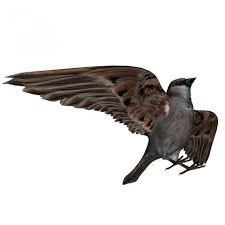hsparrow: (2, 61, 220, 202)
